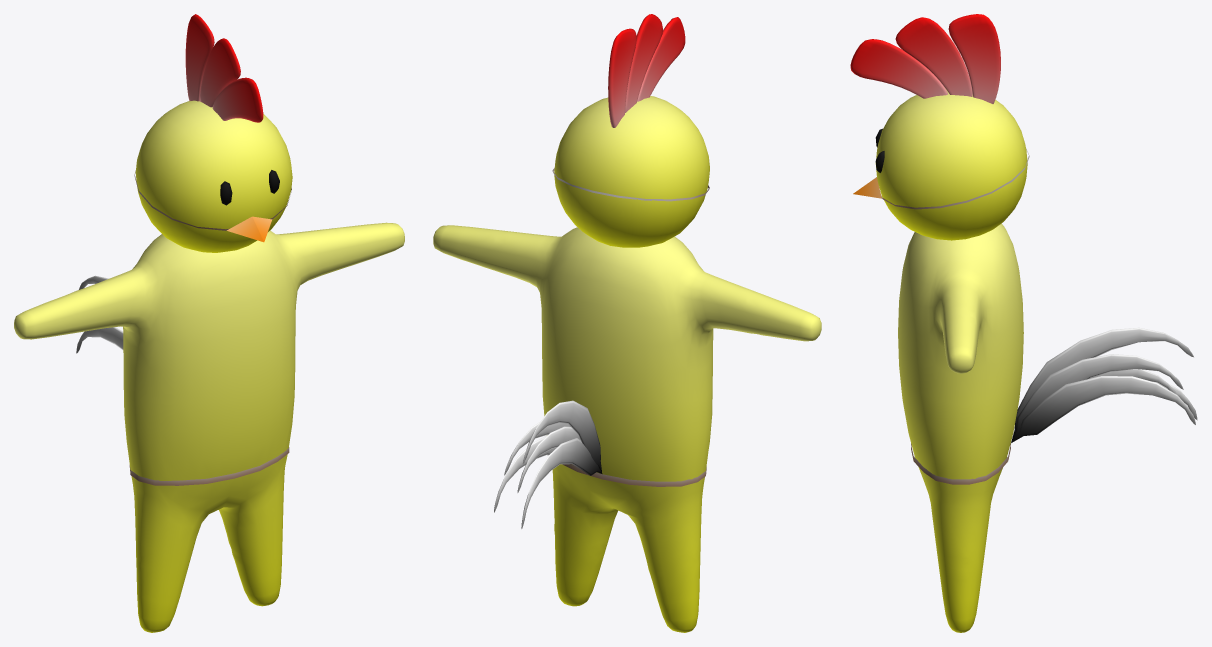
File: Player2.FBX
3 renders of one model, left to right at view 1: azimuth 30°, elevation 25°; view 2: azimuth 150°, elevation 25°; view 3: azimuth 270°, elevation 25°, orthographic.
Visible parts, largest first — view 1: Player003, Belt001, Plane009; view 2: Player003, Plane007, Plane009, Feather001, Belt001, Plane010; view 3: Player003, Plane010, Plane007, Plane008, Belt001, Feather001.
Boxes of the visible parts, x1,y1,x2,y2 form: Player003: (14,14,404,632); Belt001: (129,447,289,485); Plane009: (76,327,123,353); Player003: (433,14,821,632); Plane007: (523,400,602,473); Plane009: (521,438,601,528); Feather001: (517,426,601,492); Belt001: (562,464,706,486); Plane010: (494,435,586,512); Player003: (850,14,1029,632); Plane010: (1011,376,1195,442); Plane007: (1011,327,1193,441); Plane008: (1011,354,1183,442); Belt001: (911,443,1010,484); Feather001: (1012,369,1176,441).
Size of the model in its own units: 123 by 182 by 97.16.
1 material, 1 textured.
